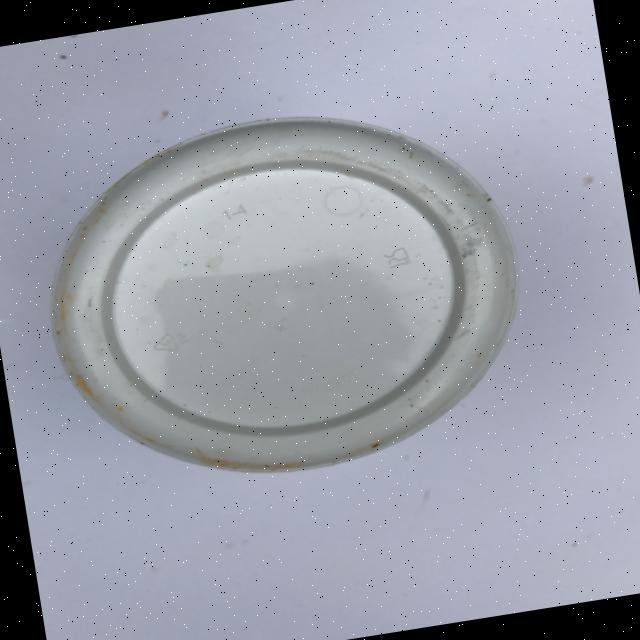plastic: (23, 82, 546, 506)
